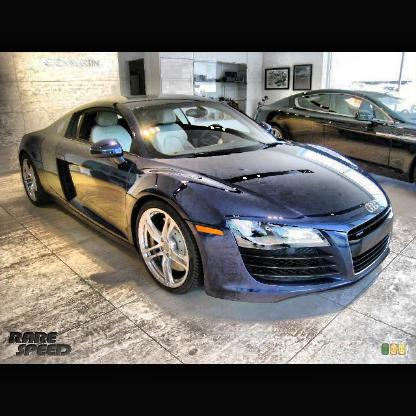Audi R8 Coupe 2012: (18, 94, 390, 301)
